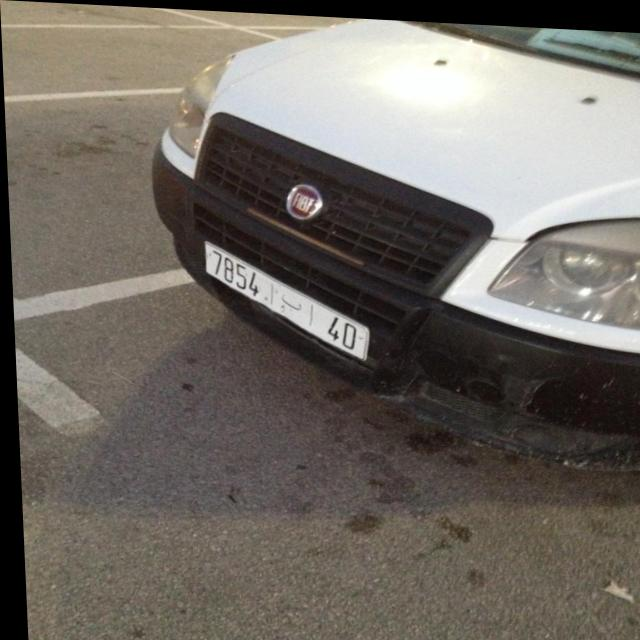License-Plate: (203, 241, 366, 356)
